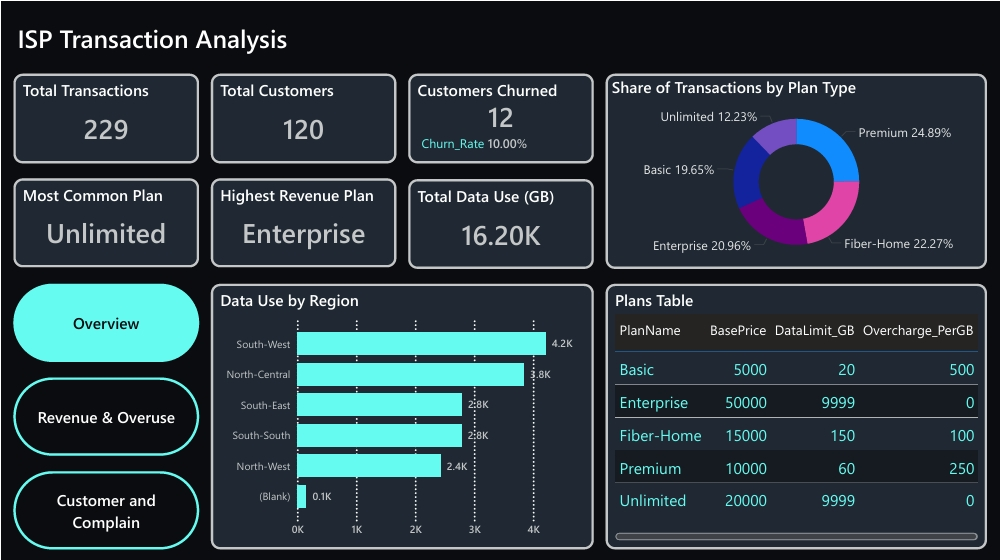

The dashboard page shown, as its layout file describes it:
{"tool":"powerbi","page":{"name":"Overview","canvas":[1280,720],"ordinal":0},"visuals":[{"type":"cardVisual","title":"Total Customers","fields":{"Data":["Customers_Data.Total Customers"]},"box":[268.3,92.3,237.5,114.5],"z":2000},{"type":"cardVisual","title":"Customers Churned","fields":{"Data":["Customers_Data.Churned_Customers"]},"box":[521.2,92.3,237.5,114.5],"z":3000},{"type":"clusteredBarChart","title":"Data Use by Region","fields":{"Y":["Billing_Data.Total_Data_Used"],"Category":["Customers_Data.Region"]},"box":[268.3,360.6,490.5,340.1],"z":4000},{"type":"tableEx","title":"Plans Table","fields":{"Values":["Plans_Table.PlanName","Plans_Table.BasePrice","Plans_Table.DataLimit_GB","Plans_Table.Overcharge_PerGB"]},"box":[774.2,360.6,488.8,340.1],"z":5000},{"type":"donutChart","title":"Share of Transactions by Plan Type","fields":{"Y":["Billing_Data.Total_Transactions"],"Category":["Plans_Table.PlanName"]},"box":[774.2,92.3,488.8,249.5],"z":6000},{"type":"pageNavigator","box":[15.4,360.6,237.5,340.1],"z":7000},{"type":"textbox","box":[15.4,18.8,996.3,54.7],"z":8000},{"type":"cardVisual","title":"Total Transactions","fields":{"Data":["Billing_Data.Total_Transactions"]},"box":[15.4,92.3,237.5,114.5],"z":9000},{"type":"cardVisual","title":"Highest Revenue Plan","fields":{"Data":["Billing_Data.Best_Performing_Plan_by_Total_Bill"]},"box":[268.3,225.6,237.5,114.5],"z":10000},{"type":"cardVisual","title":"Total Data Use (GB)","fields":{"Data":["Billing_Data.Total_Data_Used"]},"box":[521.2,227.3,237.5,114.5],"z":11000},{"type":"cardVisual","title":"Most Common Plan","fields":{"Data":["Billing_Data.Most_Common_Plan"]},"box":[15.4,225.6,237.5,114.5],"z":12000}]}

Visuals, with their boxes in screenshot pixels (x1, y1, x2, y2), scaled from the page's 1280x720 canvas onto the 1000x560 screenshot:
"Total Customers" cardVisual: left=210, top=72, right=395, bottom=161
"Customers Churned" cardVisual: left=407, top=72, right=593, bottom=161
"Data Use by Region" clusteredBarChart: left=210, top=280, right=593, bottom=545
"Plans Table" tableEx: left=605, top=280, right=987, bottom=545
"Share of Transactions by Plan Type" donutChart: left=605, top=72, right=987, bottom=266
pageNavigator: left=12, top=280, right=198, bottom=545
textbox: left=12, top=15, right=790, bottom=57
"Total Transactions" cardVisual: left=12, top=72, right=198, bottom=161
"Highest Revenue Plan" cardVisual: left=210, top=175, right=395, bottom=265
"Total Data Use (GB)" cardVisual: left=407, top=177, right=593, bottom=266
"Most Common Plan" cardVisual: left=12, top=175, right=198, bottom=265
